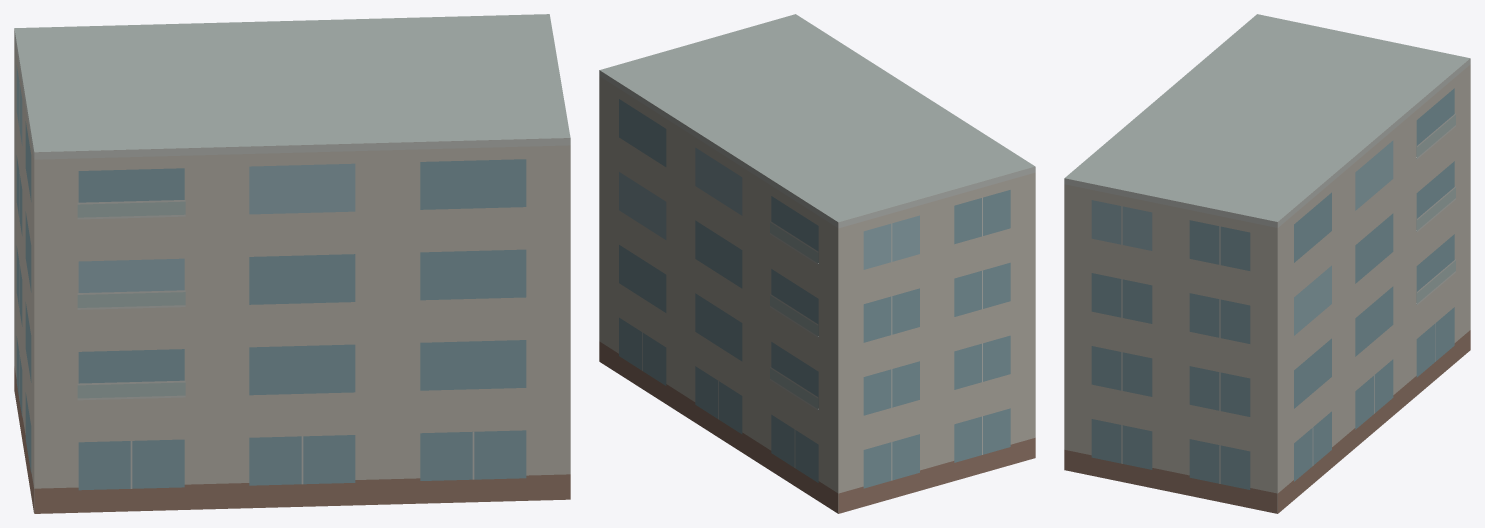
The model's file is survey-upis-32884377.glb.
The picture shows the model from 3 angles, left to right: view 1: azimuth 30°, elevation 25°; view 2: azimuth 150°, elevation 25°; view 3: azimuth 270°, elevation 25°; orthographic projection. The views are drawn at different scales.
Visible parts, largest first — view 1: survey-upis-32884377.tmp; view 2: survey-upis-32884377.tmp; view 3: survey-upis-32884377.tmp.
Boxes of the visible parts, bbox=[...] form: survey-upis-32884377.tmp: bbox=[14, 14, 570, 513]; survey-upis-32884377.tmp: bbox=[599, 14, 1035, 513]; survey-upis-32884377.tmp: bbox=[1064, 14, 1470, 513].
Size of the model in its own units: 18.05 by 11.8 by 14.89.
